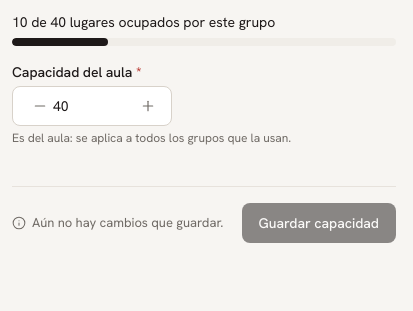
Test: CapacidadForm › si el servidor rechaza por otro grupo del aula, el mensaje queda en el campo
The image size is (413, 311).
Replace the text in the field labelled "Capacidad del aula *" with "30" at (92, 106), box [12, 86, 172, 126]
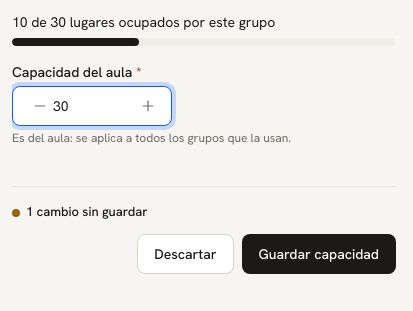
Click the button "Guardar capacidad" at (319, 254), box [242, 234, 396, 274]
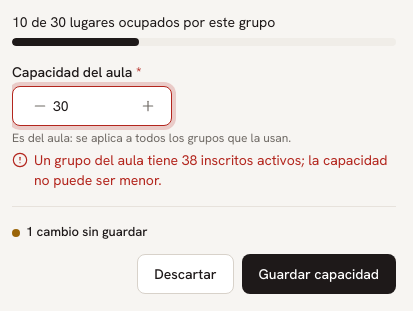
expect the text "Un grupo del aula tiene 38 inscritos activos; la capacidad no puede ser menor." is shown: met, box [12, 150, 396, 190]
